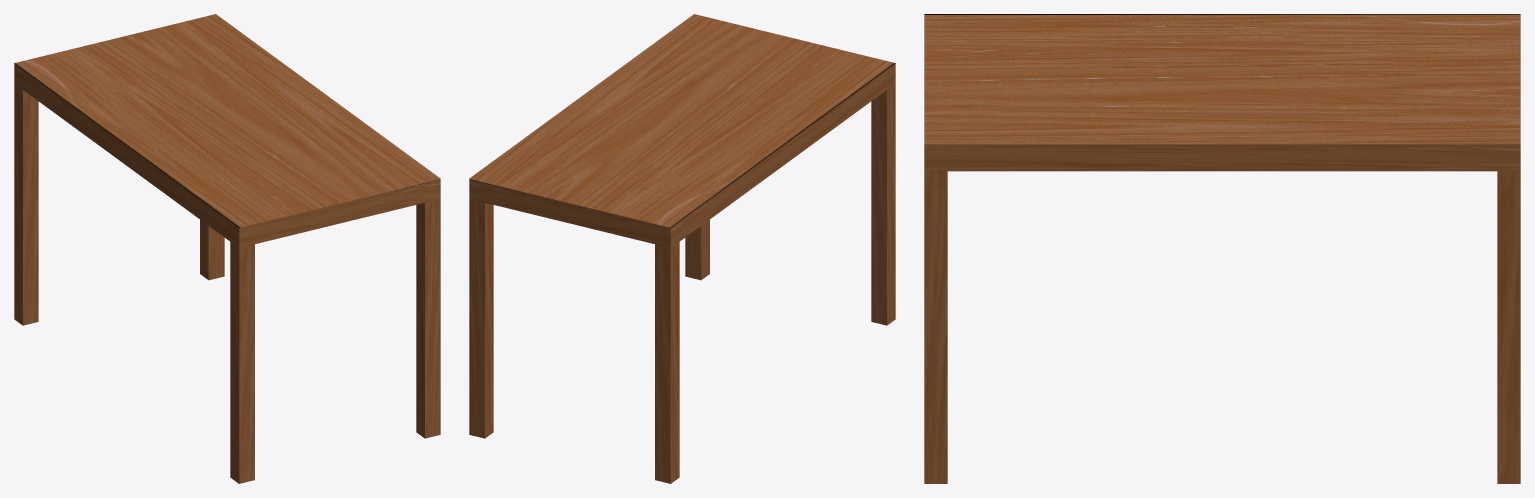
File: Table_Textured.fbx
3 views of the same model, side by side, from view 1: azimuth 30°, elevation 25°; view 2: azimuth 150°, elevation 25°; view 3: azimuth 270°, elevation 25° (orthographic). The views are drawn at different scales.
Visible parts, largest first — view 1: pCube1; view 2: pCube1; view 3: pCube1.
Part boxes in pixels (x1,y1,x2,y2): pCube1: (14, 14, 440, 483); pCube1: (469, 14, 895, 483); pCube1: (924, 14, 1520, 483).
Bounding box in the file's own units: 5.32 × 6.46 × 10.28.
